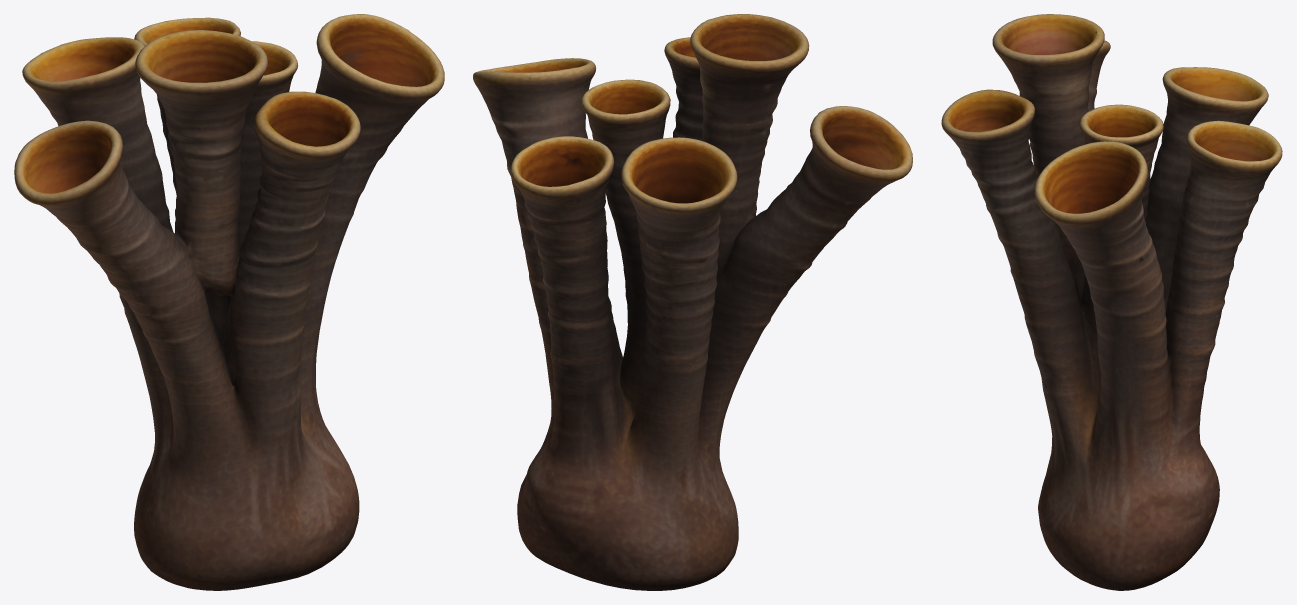
3 views of the same model, side by side, from view 1: azimuth 30°, elevation 25°; view 2: azimuth 150°, elevation 25°; view 3: azimuth 270°, elevation 25° (orthographic). The views are drawn at different scales.
Visible parts, largest first — view 1: world; view 2: world; view 3: world.
Boxes of the visible parts, <box> form: world: <box>14,14,444,590</box>; world: <box>473,14,912,590</box>; world: <box>941,14,1282,590</box>.
Bounding box in the file's own units: 0.0646 × 0.08 × 0.0504.
Materials: 1 (1 with a texture image).
